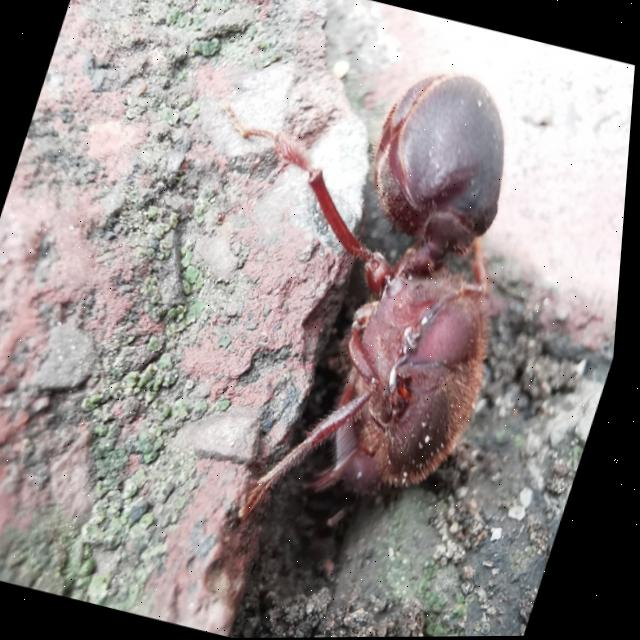Alive-Female-Dealate: (105, 22, 579, 568)
